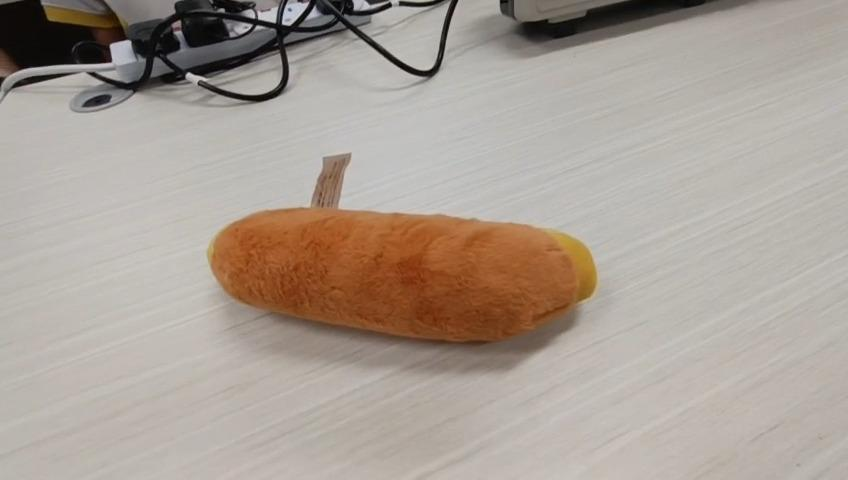hotdog: (205, 206, 597, 344)
